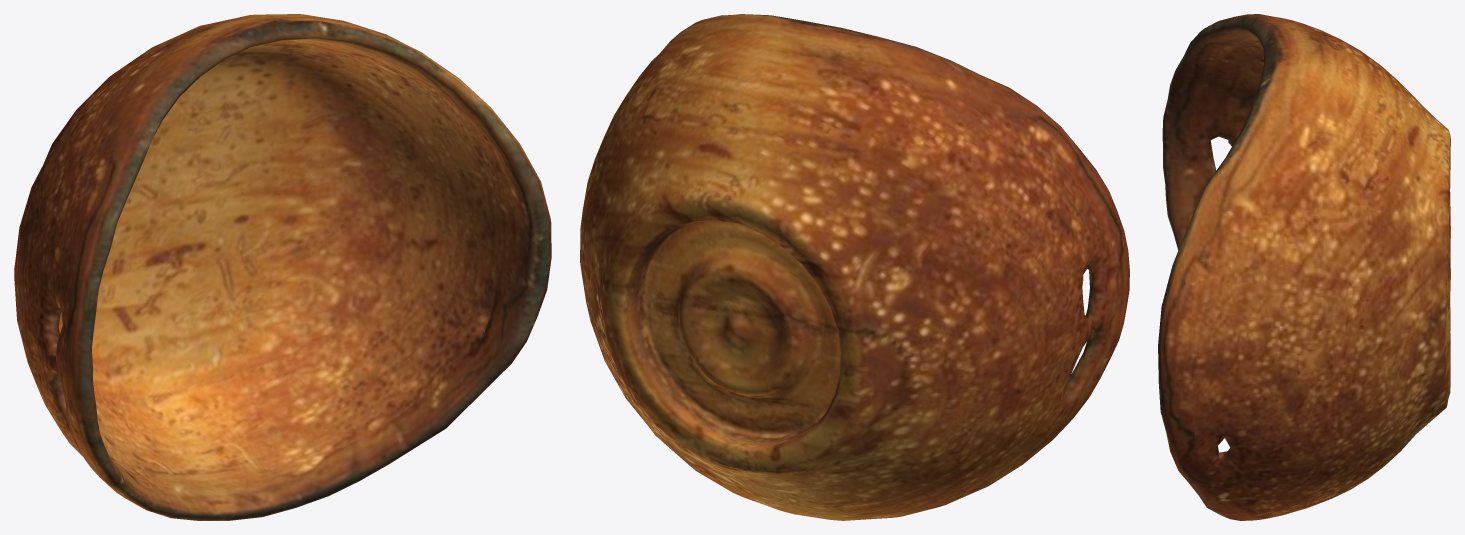
The model's file is bowl.glb.
The picture shows the model from 3 angles, left to right: view 1: azimuth 30°, elevation 25°; view 2: azimuth 150°, elevation 25°; view 3: azimuth 270°, elevation 25°; orthographic projection. The views are drawn at different scales.
Parts seen in each view (by area): view 1: wooden_bowl_02; view 2: wooden_bowl_02; view 3: wooden_bowl_02.
Part boxes in pixels (<box>): wooden_bowl_02: <box>14,14,551,520</box>; wooden_bowl_02: <box>580,14,1129,520</box>; wooden_bowl_02: <box>1158,14,1450,520</box>.
Bounding box in the file's own units: 0.1307 × 0.1245 × 0.0731.
1 material, 1 textured.
